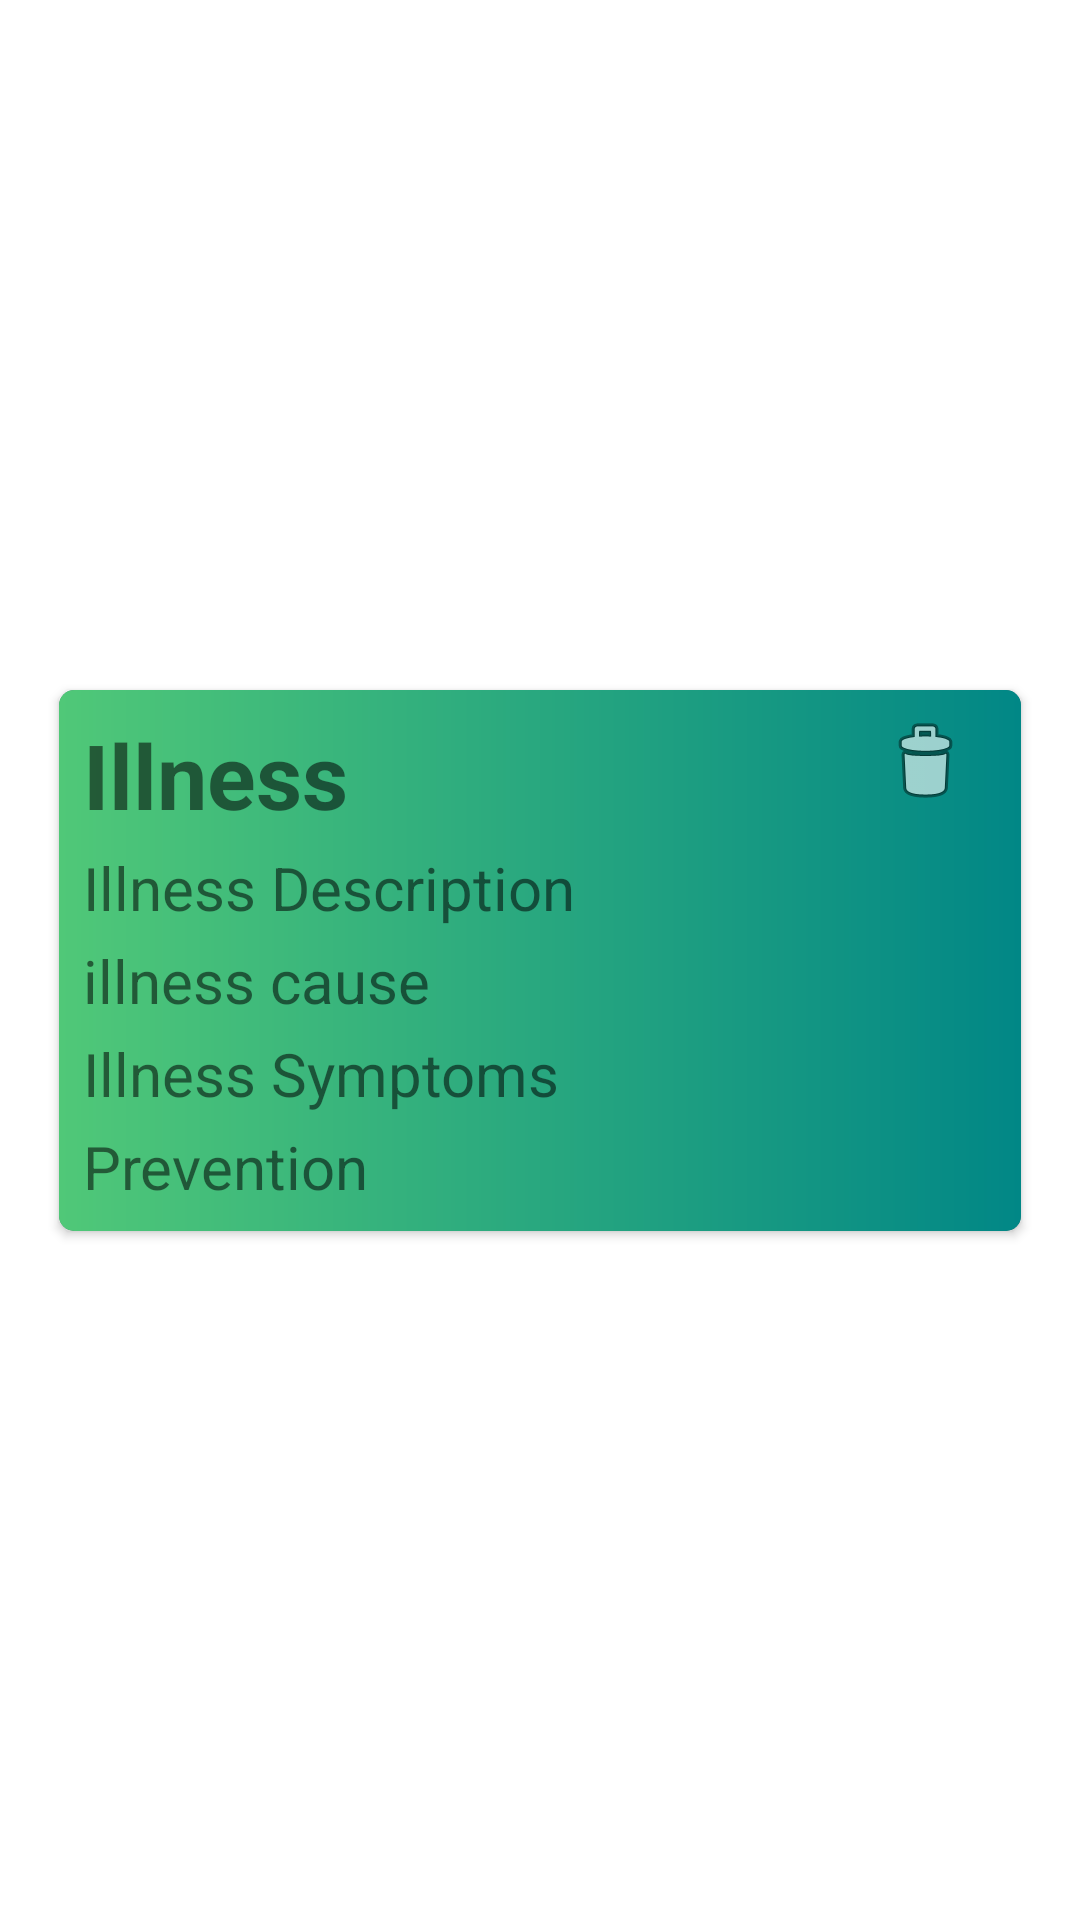

Point at icon controls on the screen. Image size 1080px x 1920px, points as (x=x, y=y).
delete: (x=925, y=760)
